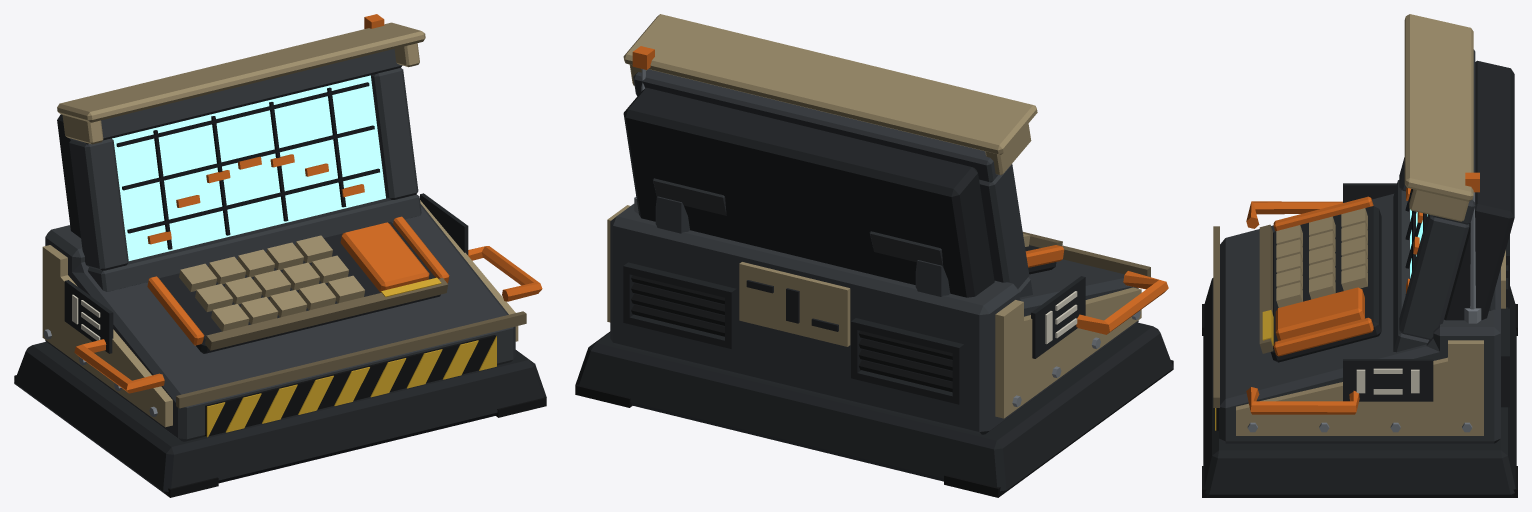
The model's file is trajectory_console.fbx.
The picture shows the model from 3 angles, left to right: view 1: azimuth 30°, elevation 25°; view 2: azimuth 150°, elevation 25°; view 3: azimuth 270°, elevation 25°; orthographic projection. The views are drawn at different scales.
Visible parts, largest first — view 1: Body, Screen, Keyboard; view 2: Body, Keyboard; view 3: Body, Keyboard.
Part boxes in pixels (<box>): Body: <box>14,14,546,497</box>; Screen: <box>112,75,385,260</box>; Keyboard: <box>147,216,449,353</box>; Body: <box>575,14,1173,497</box>; Keyboard: <box>1022,232,1064,274</box>; Body: <box>1202,14,1517,497</box>; Keyboard: <box>1259,196,1381,362</box>.
Bounding box in the file's own units: 4.31 × 3.02 × 2.8.
3 materials, 2 textured.
